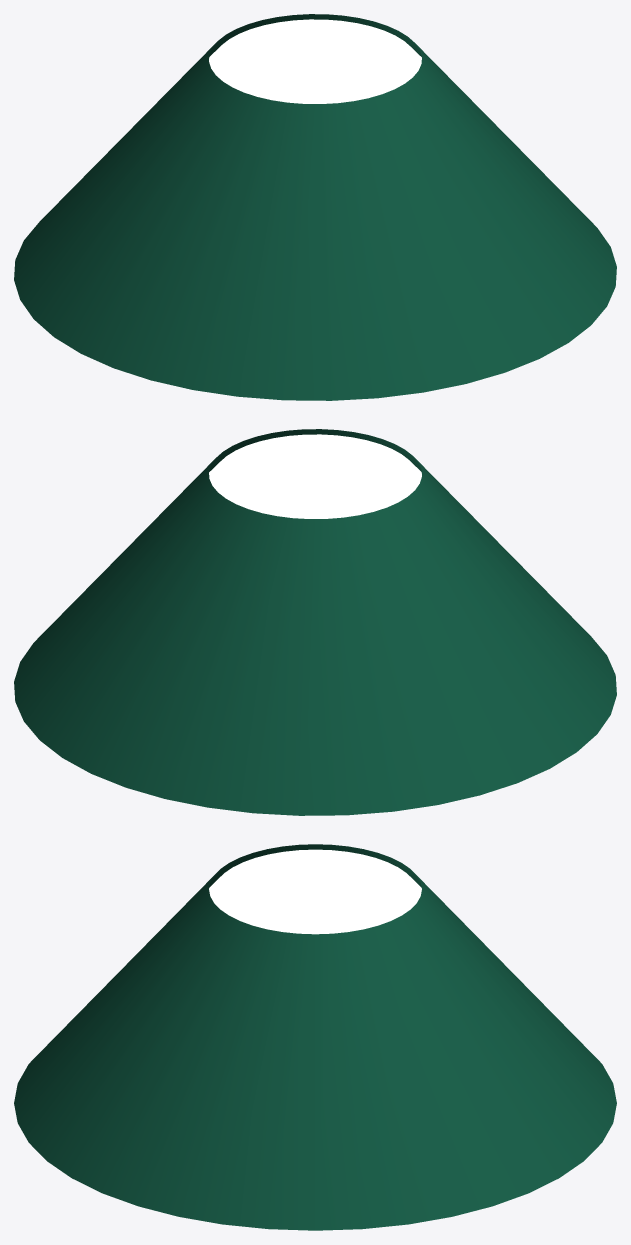
3 views of the same model, one above another, from view 1: azimuth 30°, elevation 25°; view 2: azimuth 150°, elevation 25°; view 3: azimuth 270°, elevation 25° (orthographic).
Parts seen in each view (by area): view 1: ShadeOuter0, ShadeInner0; view 2: ShadeOuter0, ShadeInner0; view 3: ShadeOuter0, ShadeInner0.
Part boxes in pixels (x1,y1,x2,y2): ShadeOuter0: [14, 14, 616, 400]; ShadeInner0: [209, 19, 421, 103]; ShadeOuter0: [14, 429, 616, 815]; ShadeInner0: [209, 434, 421, 518]; ShadeOuter0: [14, 844, 616, 1230]; ShadeInner0: [209, 849, 421, 934].
Size of the model in its own units: 0.6 by 0.235 by 0.6.
